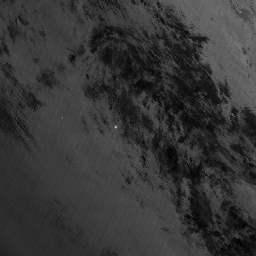Target: (113, 124, 119, 130)
